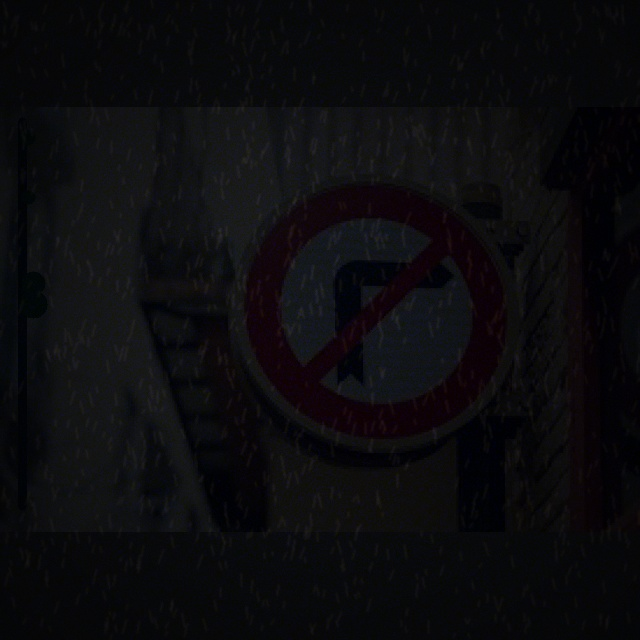Right_Turn_Prohibited: (236, 177, 512, 465)
